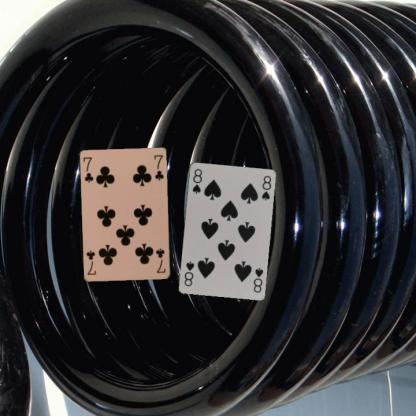7c: (81, 155, 95, 184), (154, 246, 167, 275)
8s: (190, 166, 204, 195), (251, 264, 264, 294)
